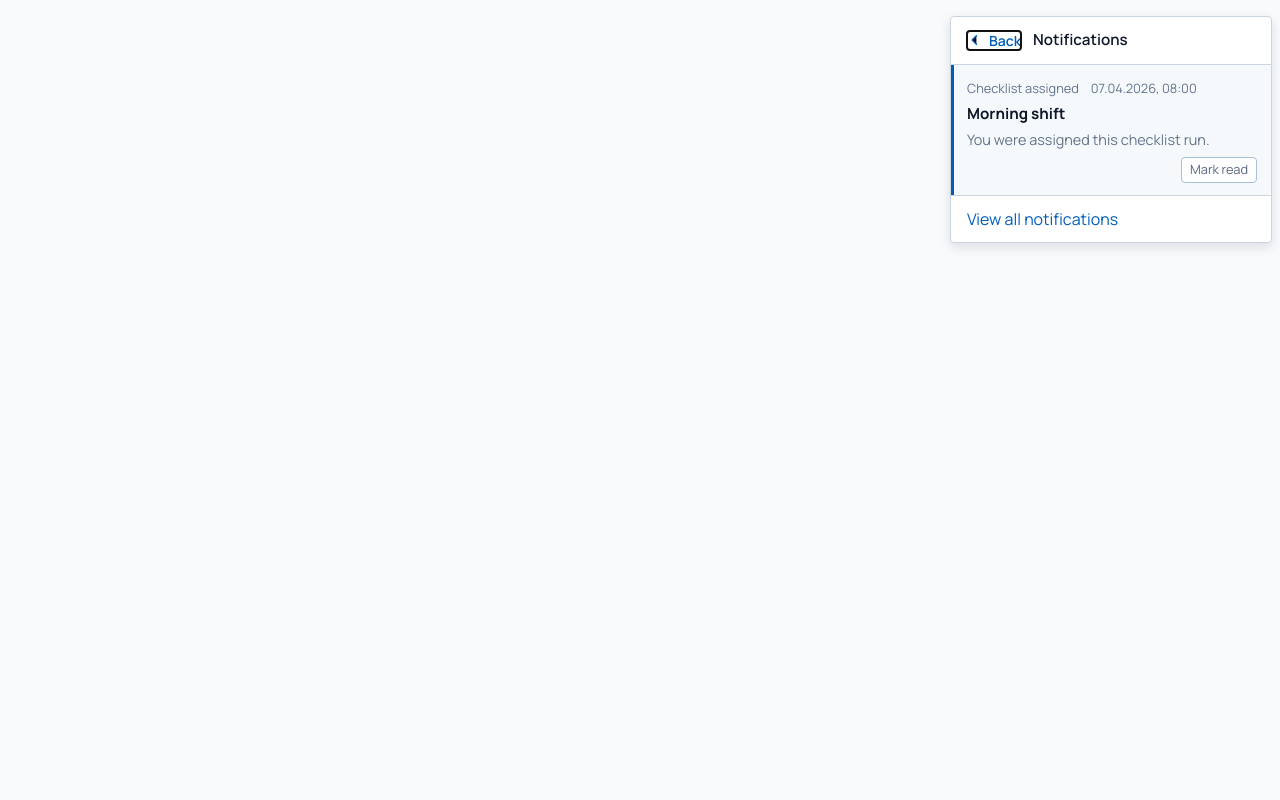
Test: NotificationsPopup › shows an inline error when marking a notification as read fails
The image size is (1280, 800).
Step 1. Click the button with class "notification-read-button" → (1219, 170), box [1181,158,1257,183]
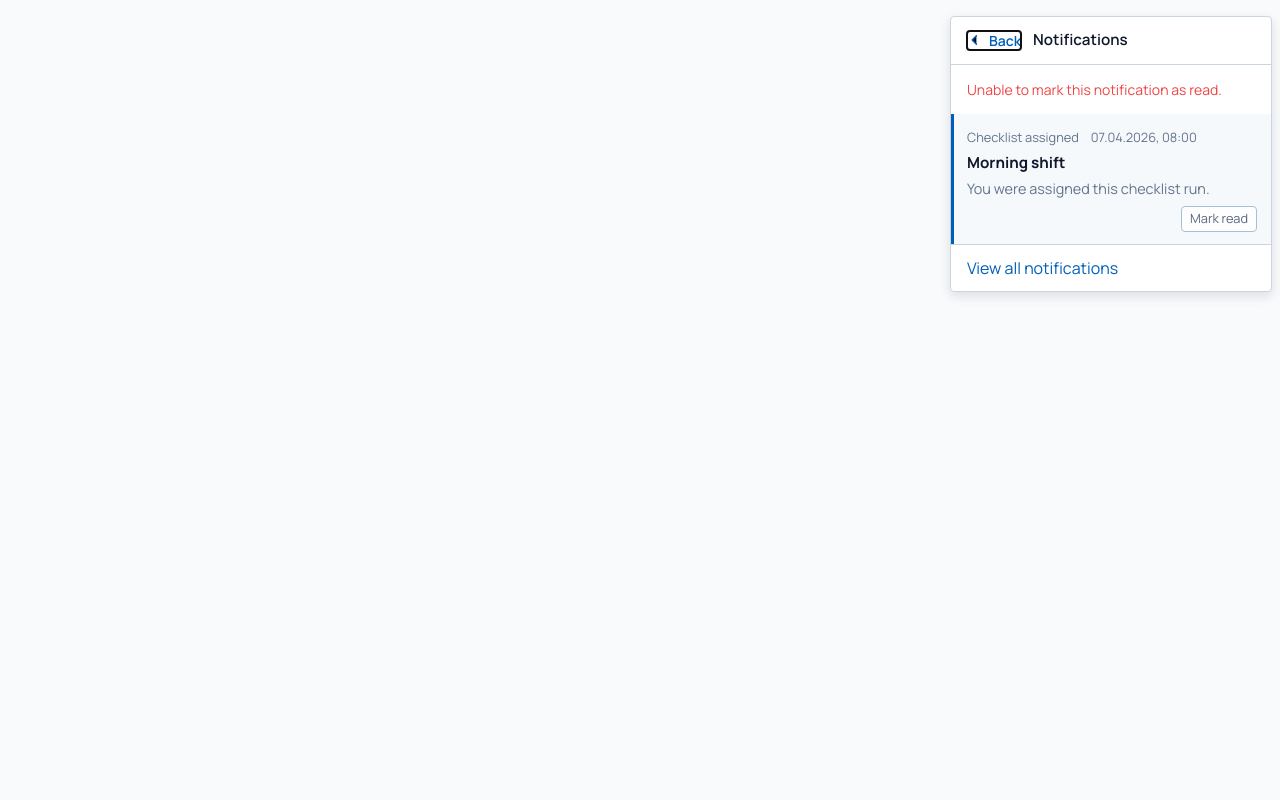
Expected: the button with class "notification-read-button" is shown, [1181,206,1257,232]
Now the text "Unable to mark this notification as read." is shown, box [967,80,1222,99]
